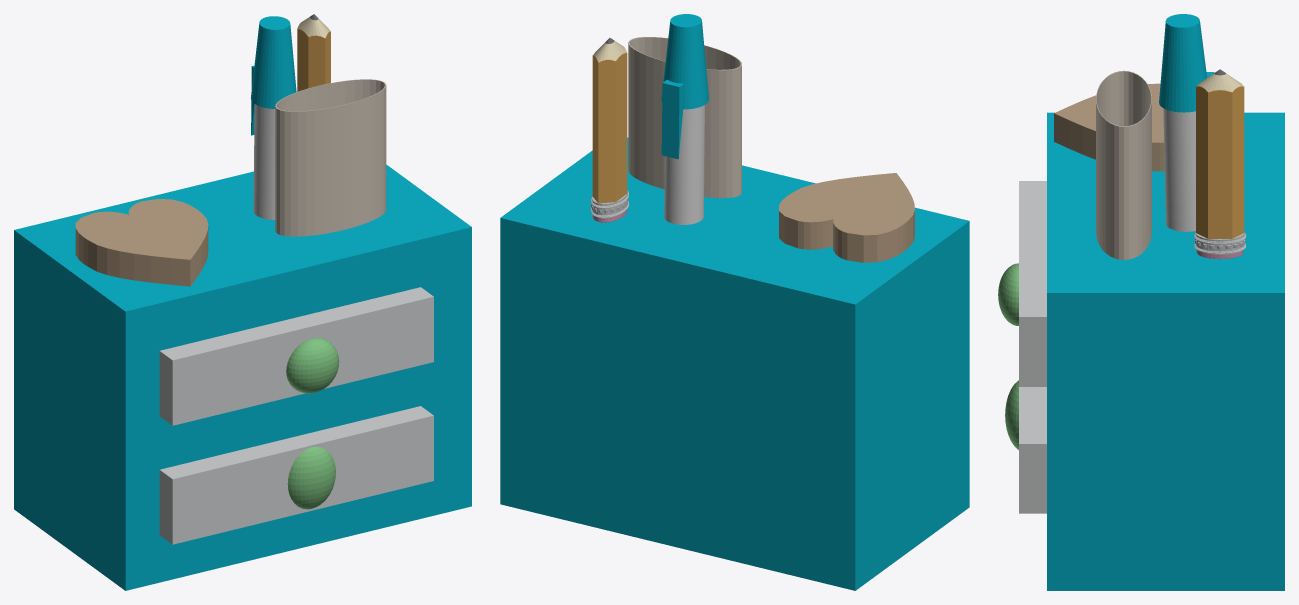
File: Side Drawer.glb
The picture shows the model from 3 angles, left to right: view 1: azimuth 30°, elevation 25°; view 2: azimuth 150°, elevation 25°; view 3: azimuth 270°, elevation 25°; orthographic projection. The views are drawn at different scales.
Visible parts, largest first — view 1: Mesh_Mesh_head_geo.001_lambert2SG.001; view 2: Mesh_Mesh_head_geo.001_lambert2SG.001; view 3: Mesh_Mesh_head_geo.001_lambert2SG.001.
Part boxes in pixels (box(x1,y1,x2,y2)): Mesh_Mesh_head_geo.001_lambert2SG.001: box(14, 14, 471, 590); Mesh_Mesh_head_geo.001_lambert2SG.001: box(500, 14, 969, 590); Mesh_Mesh_head_geo.001_lambert2SG.001: box(998, 14, 1284, 590).
Size of the model in its own units: 61 by 79 by 41.
